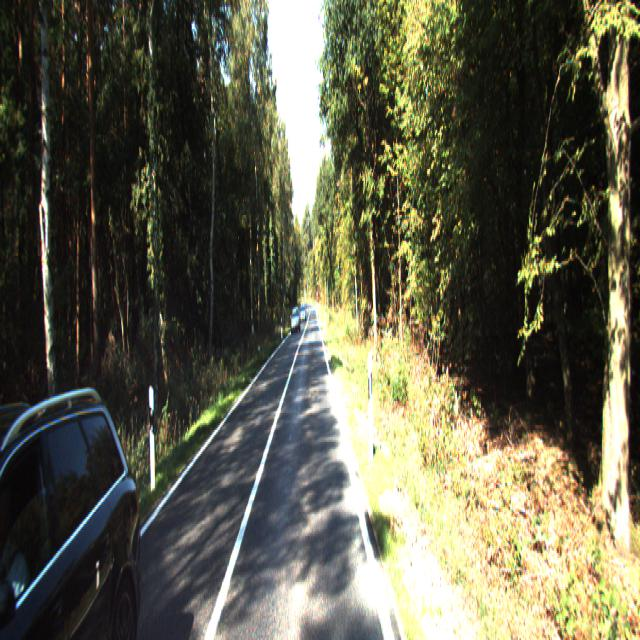Car: (0, 361, 164, 639), (291, 307, 301, 335)
